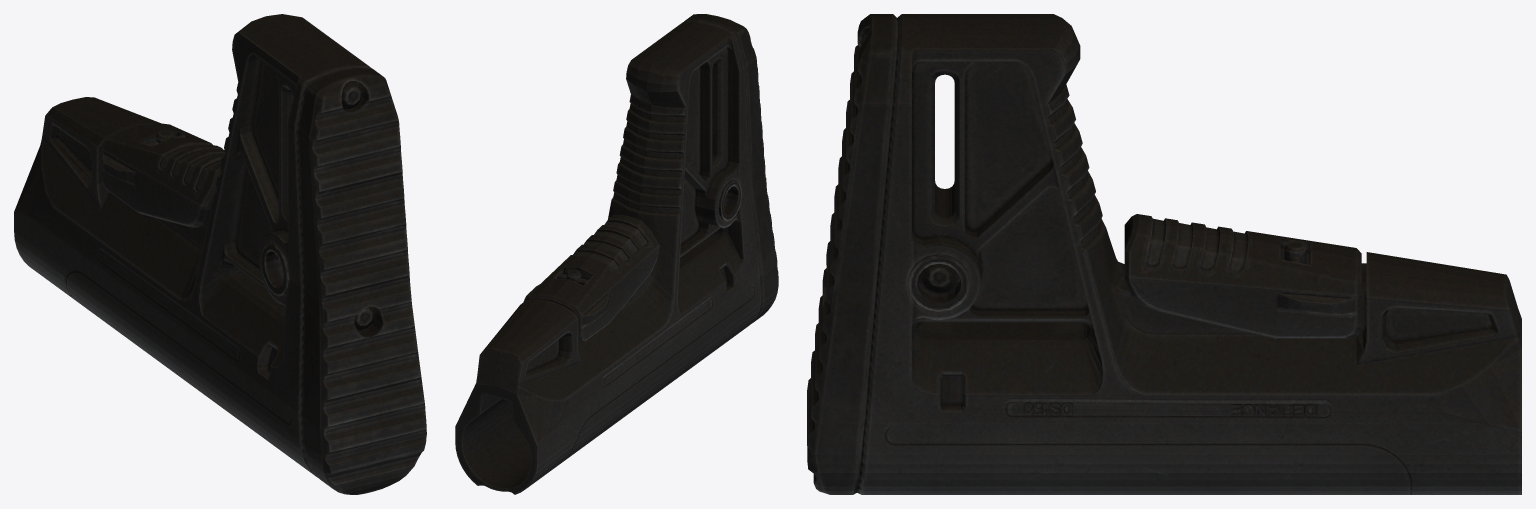
3 renders of one model, left to right at view 1: azimuth 30°, elevation 25°; view 2: azimuth 150°, elevation 25°; view 3: azimuth 270°, elevation 25°, orthographic. The views are drawn at different scales.
Parts seen in each view (by area): view 1: TW_5fbbaa86f9986c4cff3fe5f6_PZ_Import; view 2: TW_5fbbaa86f9986c4cff3fe5f6_PZ_Import; view 3: TW_5fbbaa86f9986c4cff3fe5f6_PZ_Import.
Part boxes in pixels (box(x1,y1,x2,y2)): TW_5fbbaa86f9986c4cff3fe5f6_PZ_Import: box(14, 14, 426, 494); TW_5fbbaa86f9986c4cff3fe5f6_PZ_Import: box(455, 14, 778, 494); TW_5fbbaa86f9986c4cff3fe5f6_PZ_Import: box(807, 14, 1521, 494).
Bounding box in the file's own units: 0.0205 × 0.1055 × 0.0754.
1 material, 1 textured.
